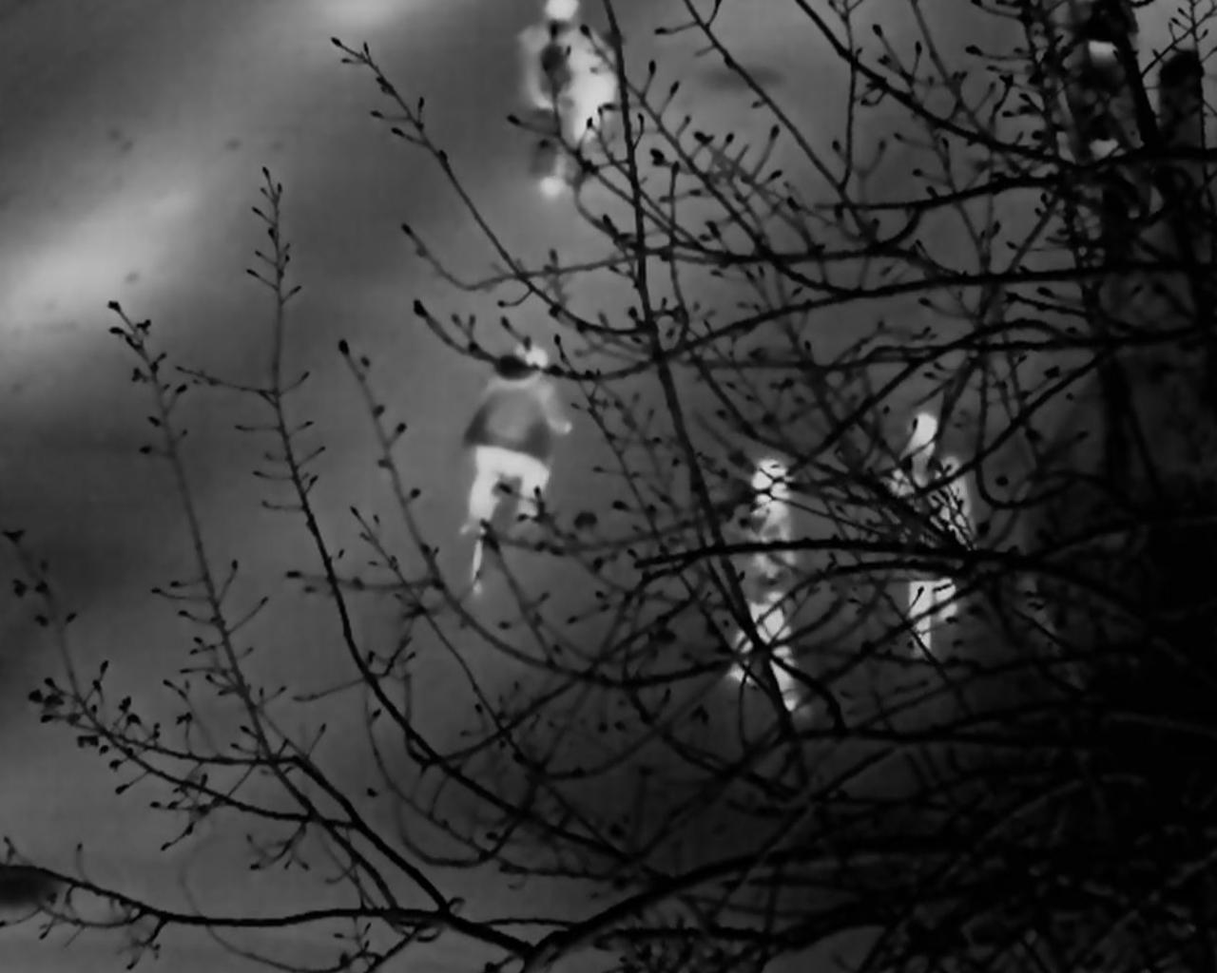person: (894, 401, 990, 652), (458, 341, 570, 552), (744, 451, 814, 688)
